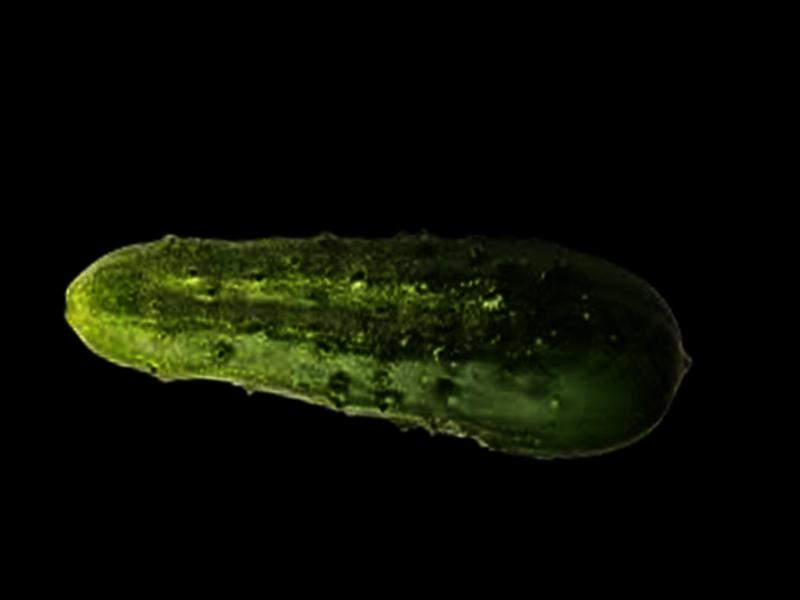Cucumber: (53, 183, 704, 474)
